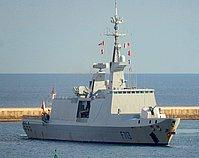MIL_Ship: (22, 2, 179, 145)
